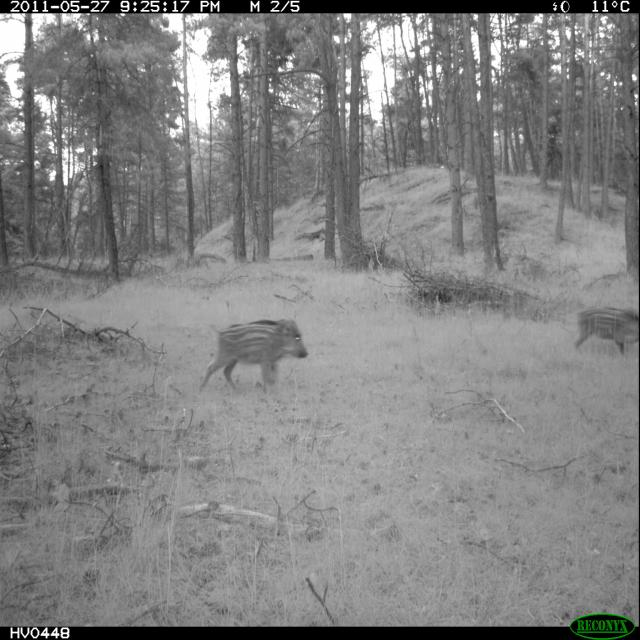boar: (201, 288, 327, 419), (568, 282, 640, 364)
